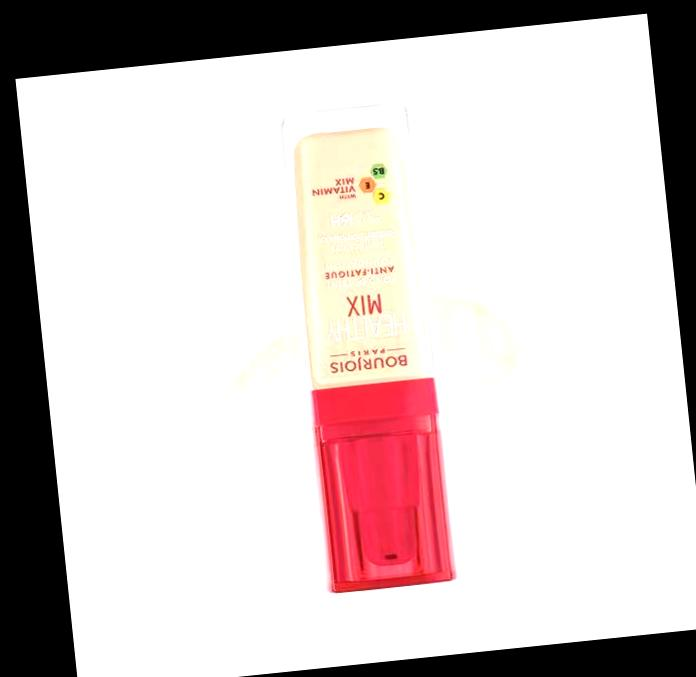cosmetic: (273, 91, 462, 593)
